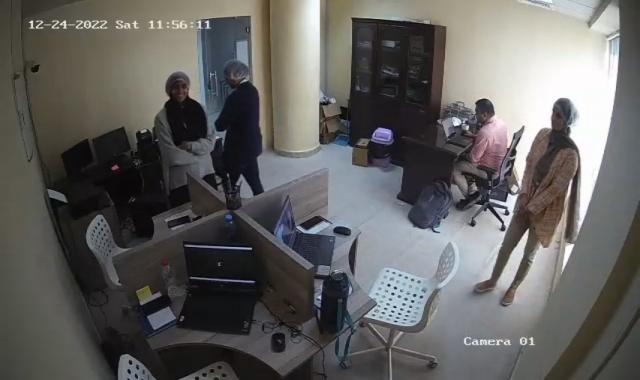hairnet: (550, 94, 578, 136), (219, 56, 252, 90), (164, 70, 191, 104)
no_hairnet: (472, 98, 497, 125)
